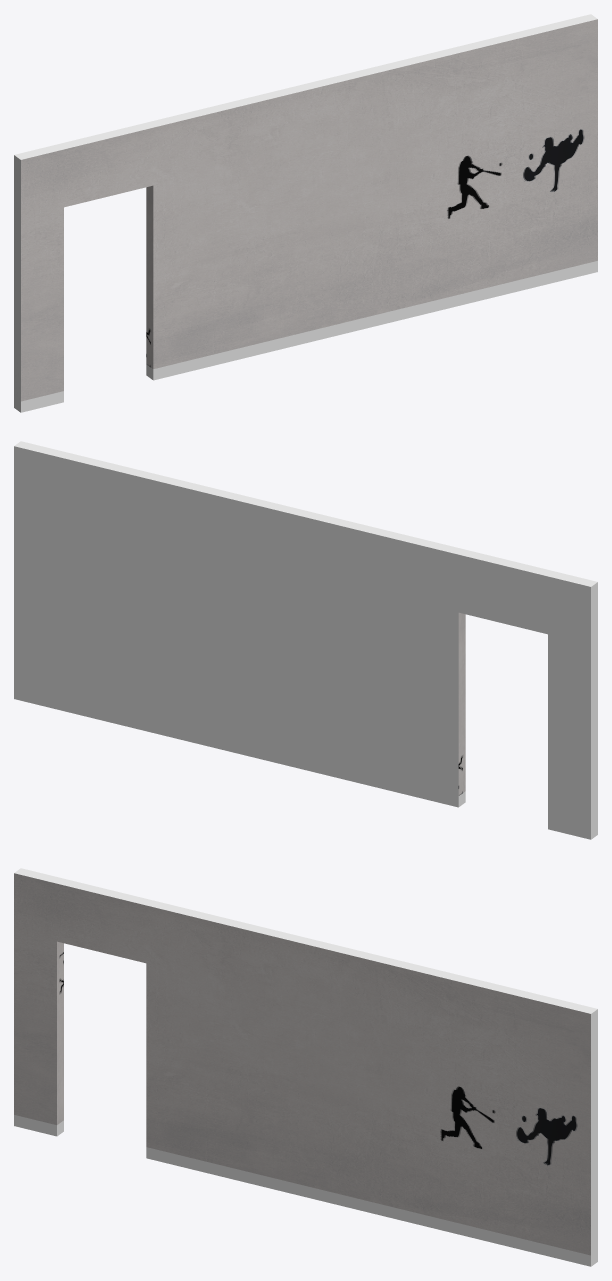
The model's file is Door wall 2.FBX.
The picture shows the model from 3 angles, top to bottom: view 1: azimuth 30°, elevation 25°; view 2: azimuth 150°, elevation 25°; view 3: azimuth 330°, elevation 25°; orthographic projection.
Parts seen in each view (by area): view 1: door wall 2; view 2: door wall 2; view 3: door wall 2.
Boxes of the visible parts, x1,y1,x2,y2 form: door wall 2: (14,14,597,412); door wall 2: (14,441,597,839); door wall 2: (14,868,597,1266).
Size of the model in its own units: 644 by 270 by 13.32.
1 material, 1 textured.
